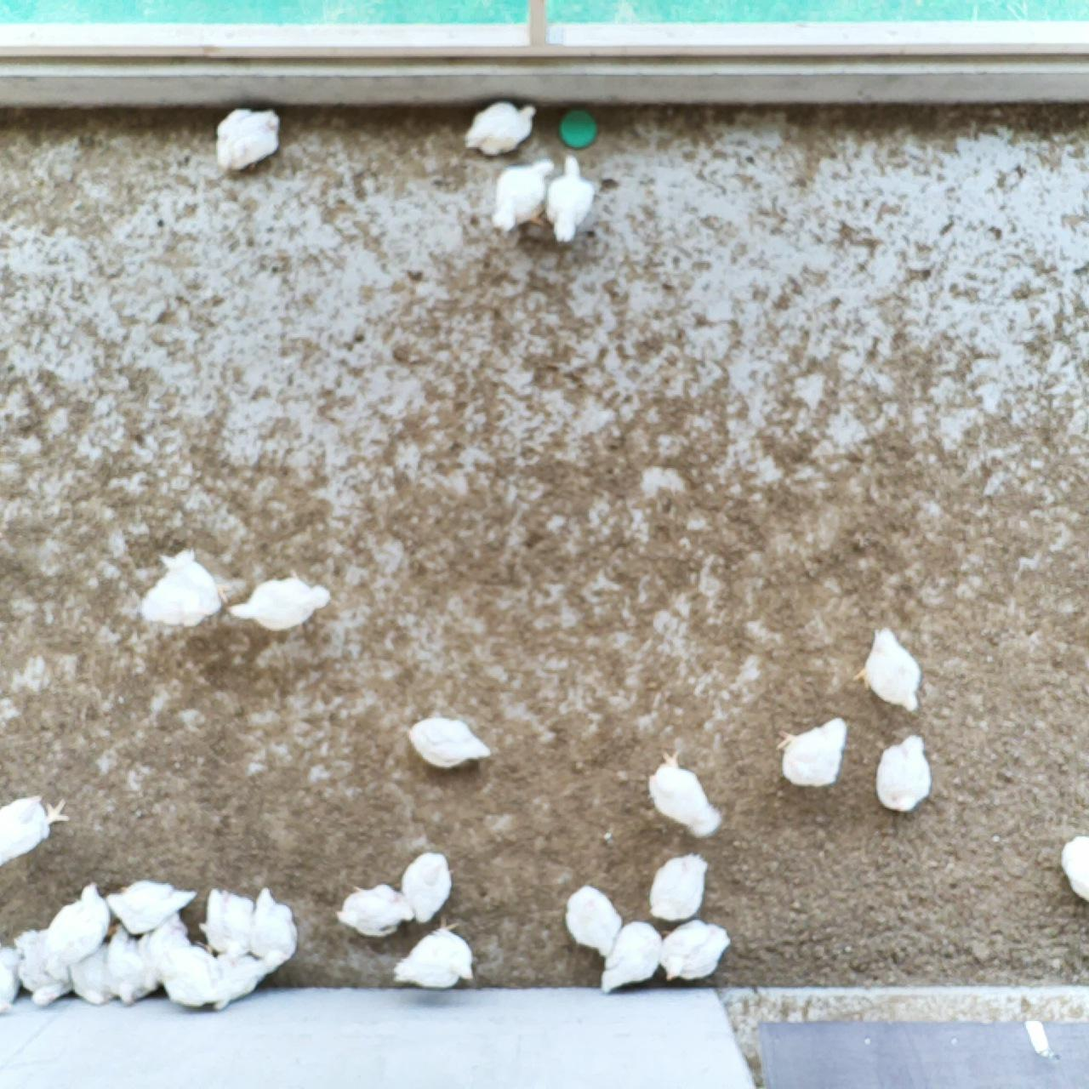chicken: (136, 545, 233, 633), (643, 744, 728, 839), (227, 564, 337, 635), (852, 621, 925, 719), (770, 713, 853, 795), (389, 915, 478, 991), (44, 874, 117, 960), (486, 155, 562, 237), (0, 790, 75, 871), (103, 877, 199, 940), (211, 102, 287, 180), (596, 918, 667, 1000), (12, 922, 78, 1010), (542, 151, 601, 248), (871, 731, 937, 817), (101, 923, 165, 1010), (157, 934, 228, 1012), (463, 93, 541, 163), (214, 945, 294, 1013), (643, 851, 713, 927), (655, 917, 733, 985), (403, 710, 491, 769), (560, 878, 624, 959), (245, 881, 304, 964), (332, 881, 415, 940), (400, 847, 458, 928), (194, 884, 259, 954), (66, 937, 119, 1008), (1054, 828, 1089, 909)
